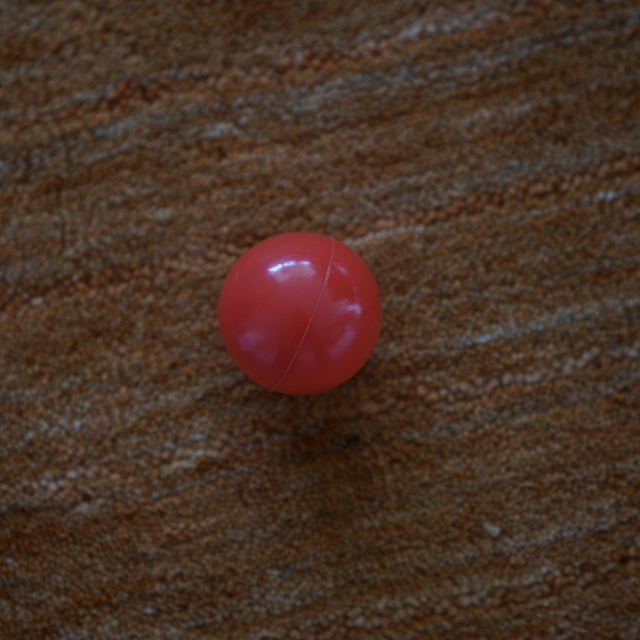Ball: (224, 231, 378, 396)
